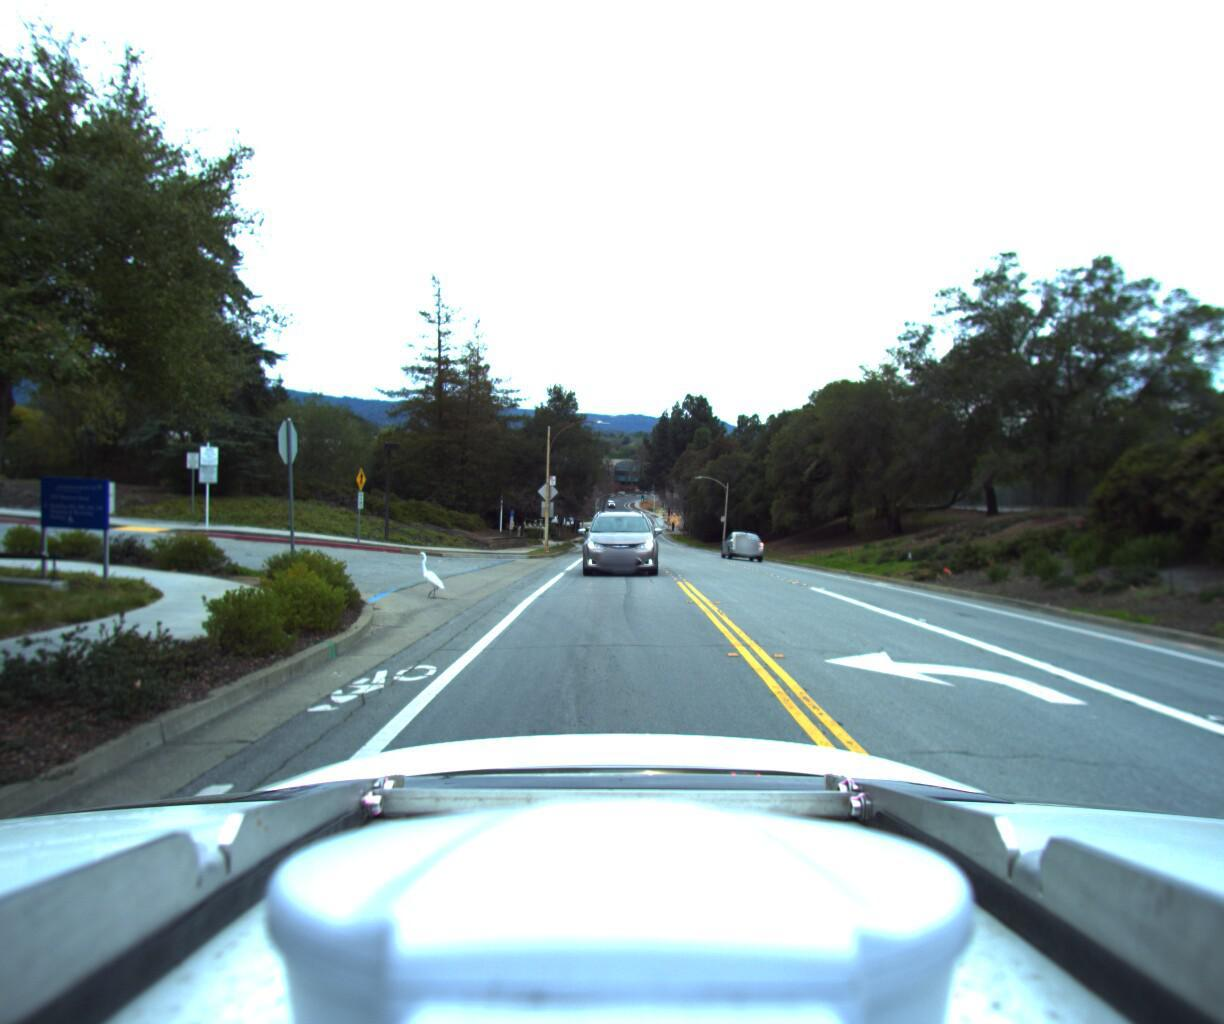car: (578, 494, 659, 576), (712, 522, 759, 559)
